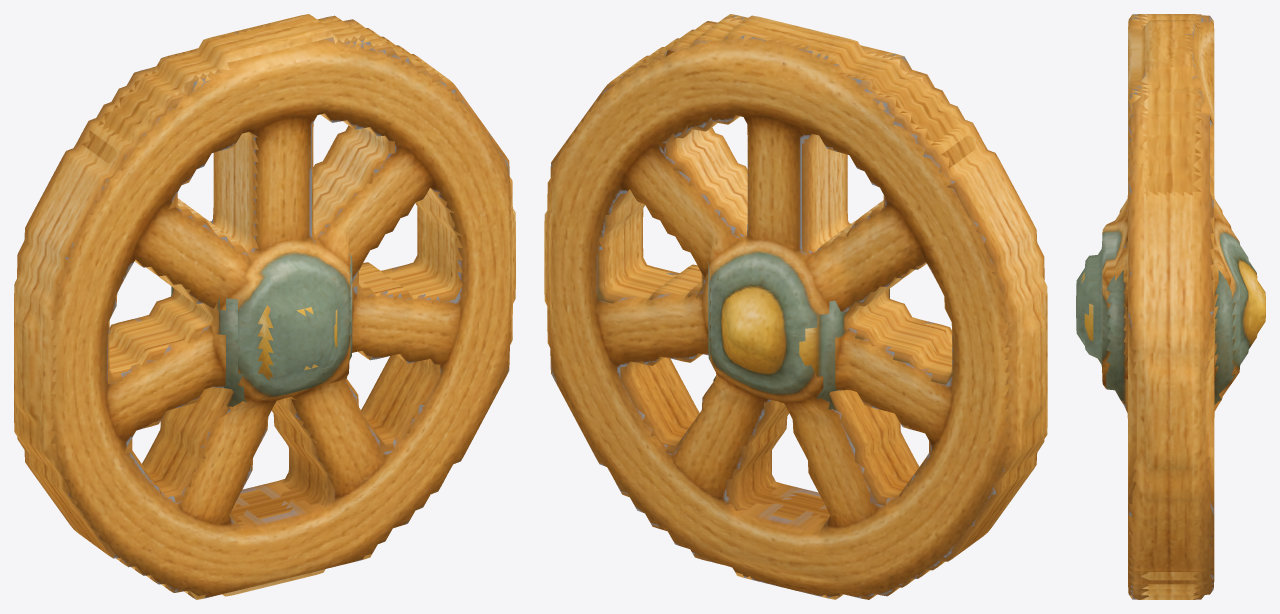
Rendered from wheel.glb.
The picture shows the model from 3 angles, left to right: view 1: azimuth 30°, elevation 25°; view 2: azimuth 150°, elevation 25°; view 3: azimuth 270°, elevation 25°; orthographic projection. The views are drawn at different scales.
Bounding box in the file's own units: 0.9323 × 1 × 0.3254.
1 material, 1 textured.
